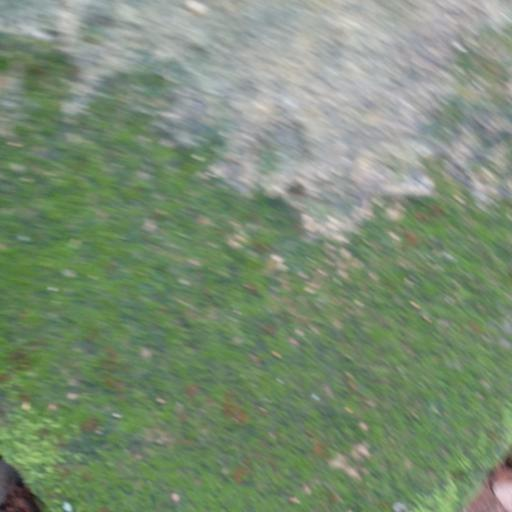algae: (6, 45, 511, 512)
